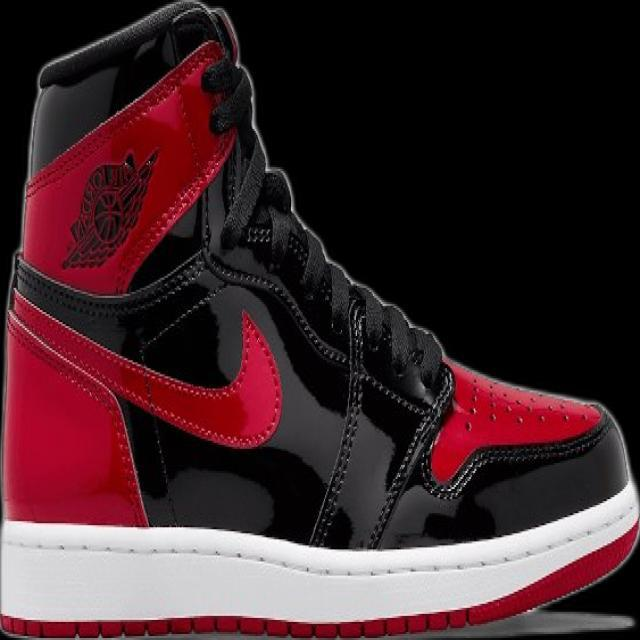J1_InsoleChar: (0, 0, 639, 639)
J1_ShoeLogo: (59, 146, 160, 271)
J1_StitchPattern: (6, 246, 452, 546), (214, 166, 450, 546), (1, 503, 638, 580), (306, 286, 449, 547), (4, 293, 152, 522), (363, 361, 456, 548), (307, 293, 370, 547), (421, 419, 612, 502), (0, 608, 469, 639), (460, 374, 598, 430)
